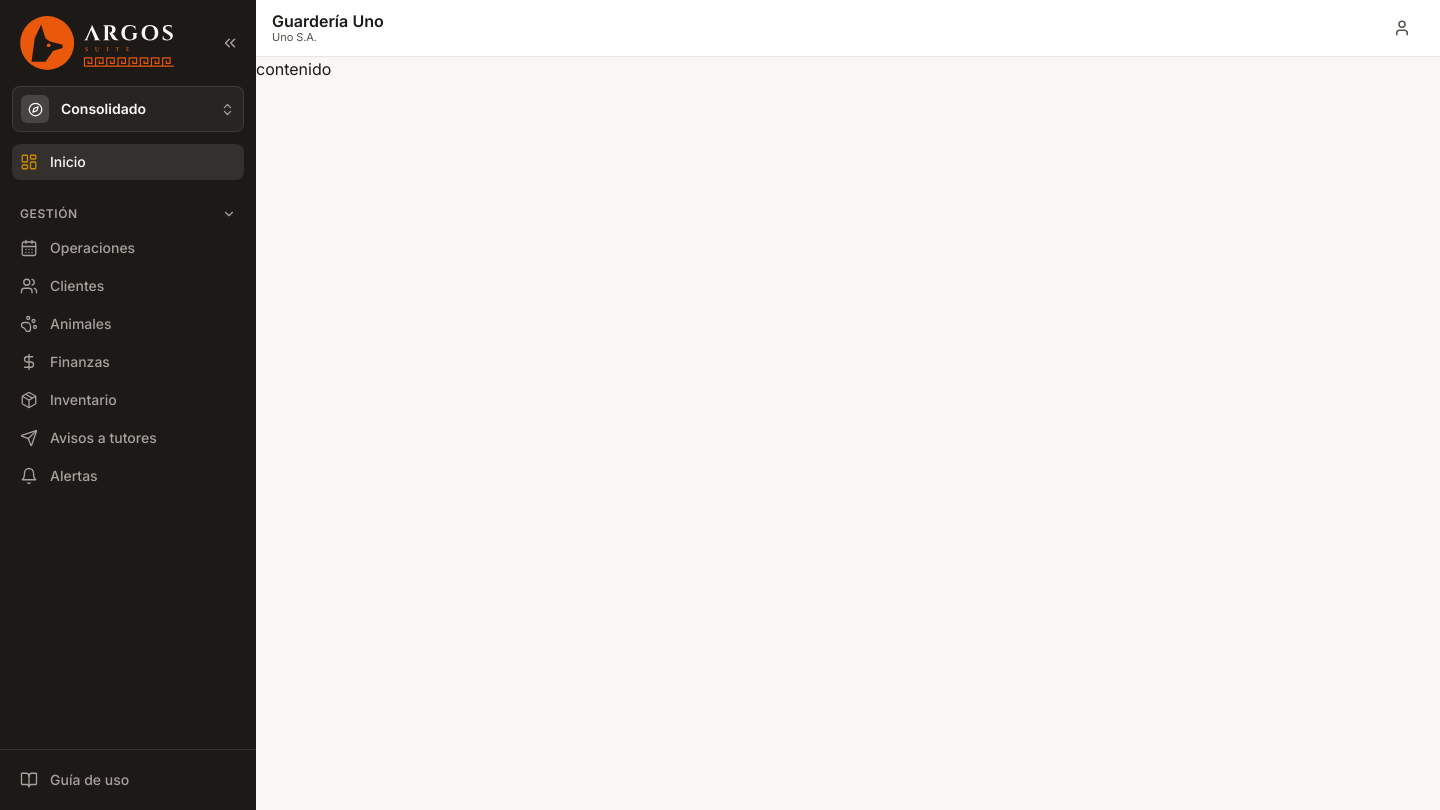
it: user menu › offers the console to a superadmin
Click the button named "Menú de usuario" at (1402, 28), box [1380, 6, 1424, 50]
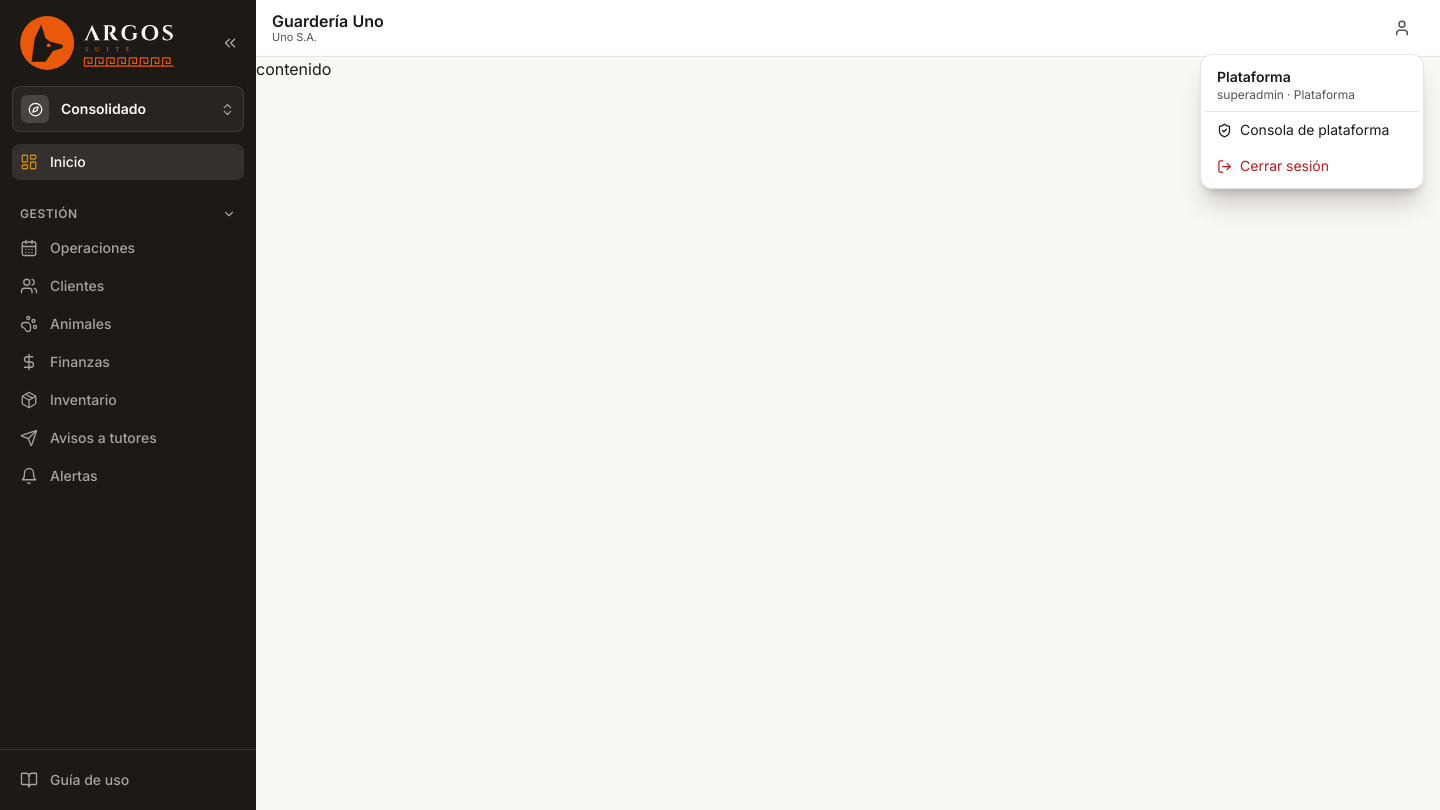
Check: the menu item "Consola de plataforma" is shown, box [1205, 112, 1419, 148]
